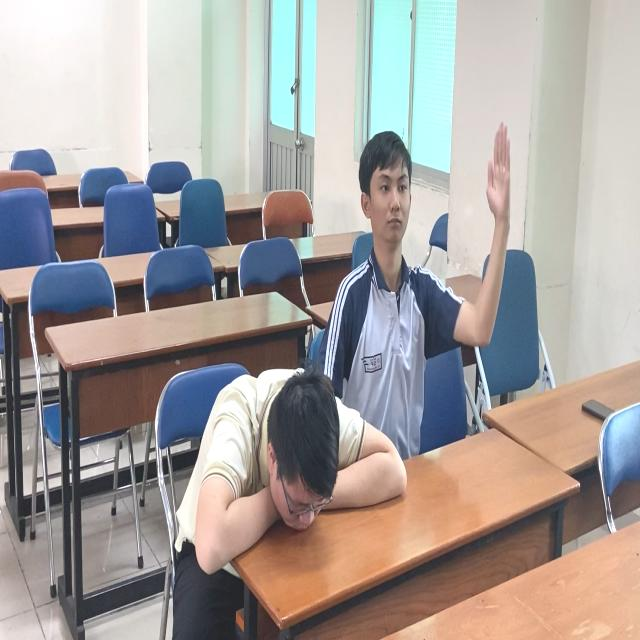raise_hand: (356, 124, 515, 500)
sleep: (170, 365, 405, 588)
